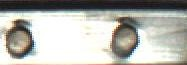joints: (0, 18, 37, 60), (108, 17, 142, 60)
